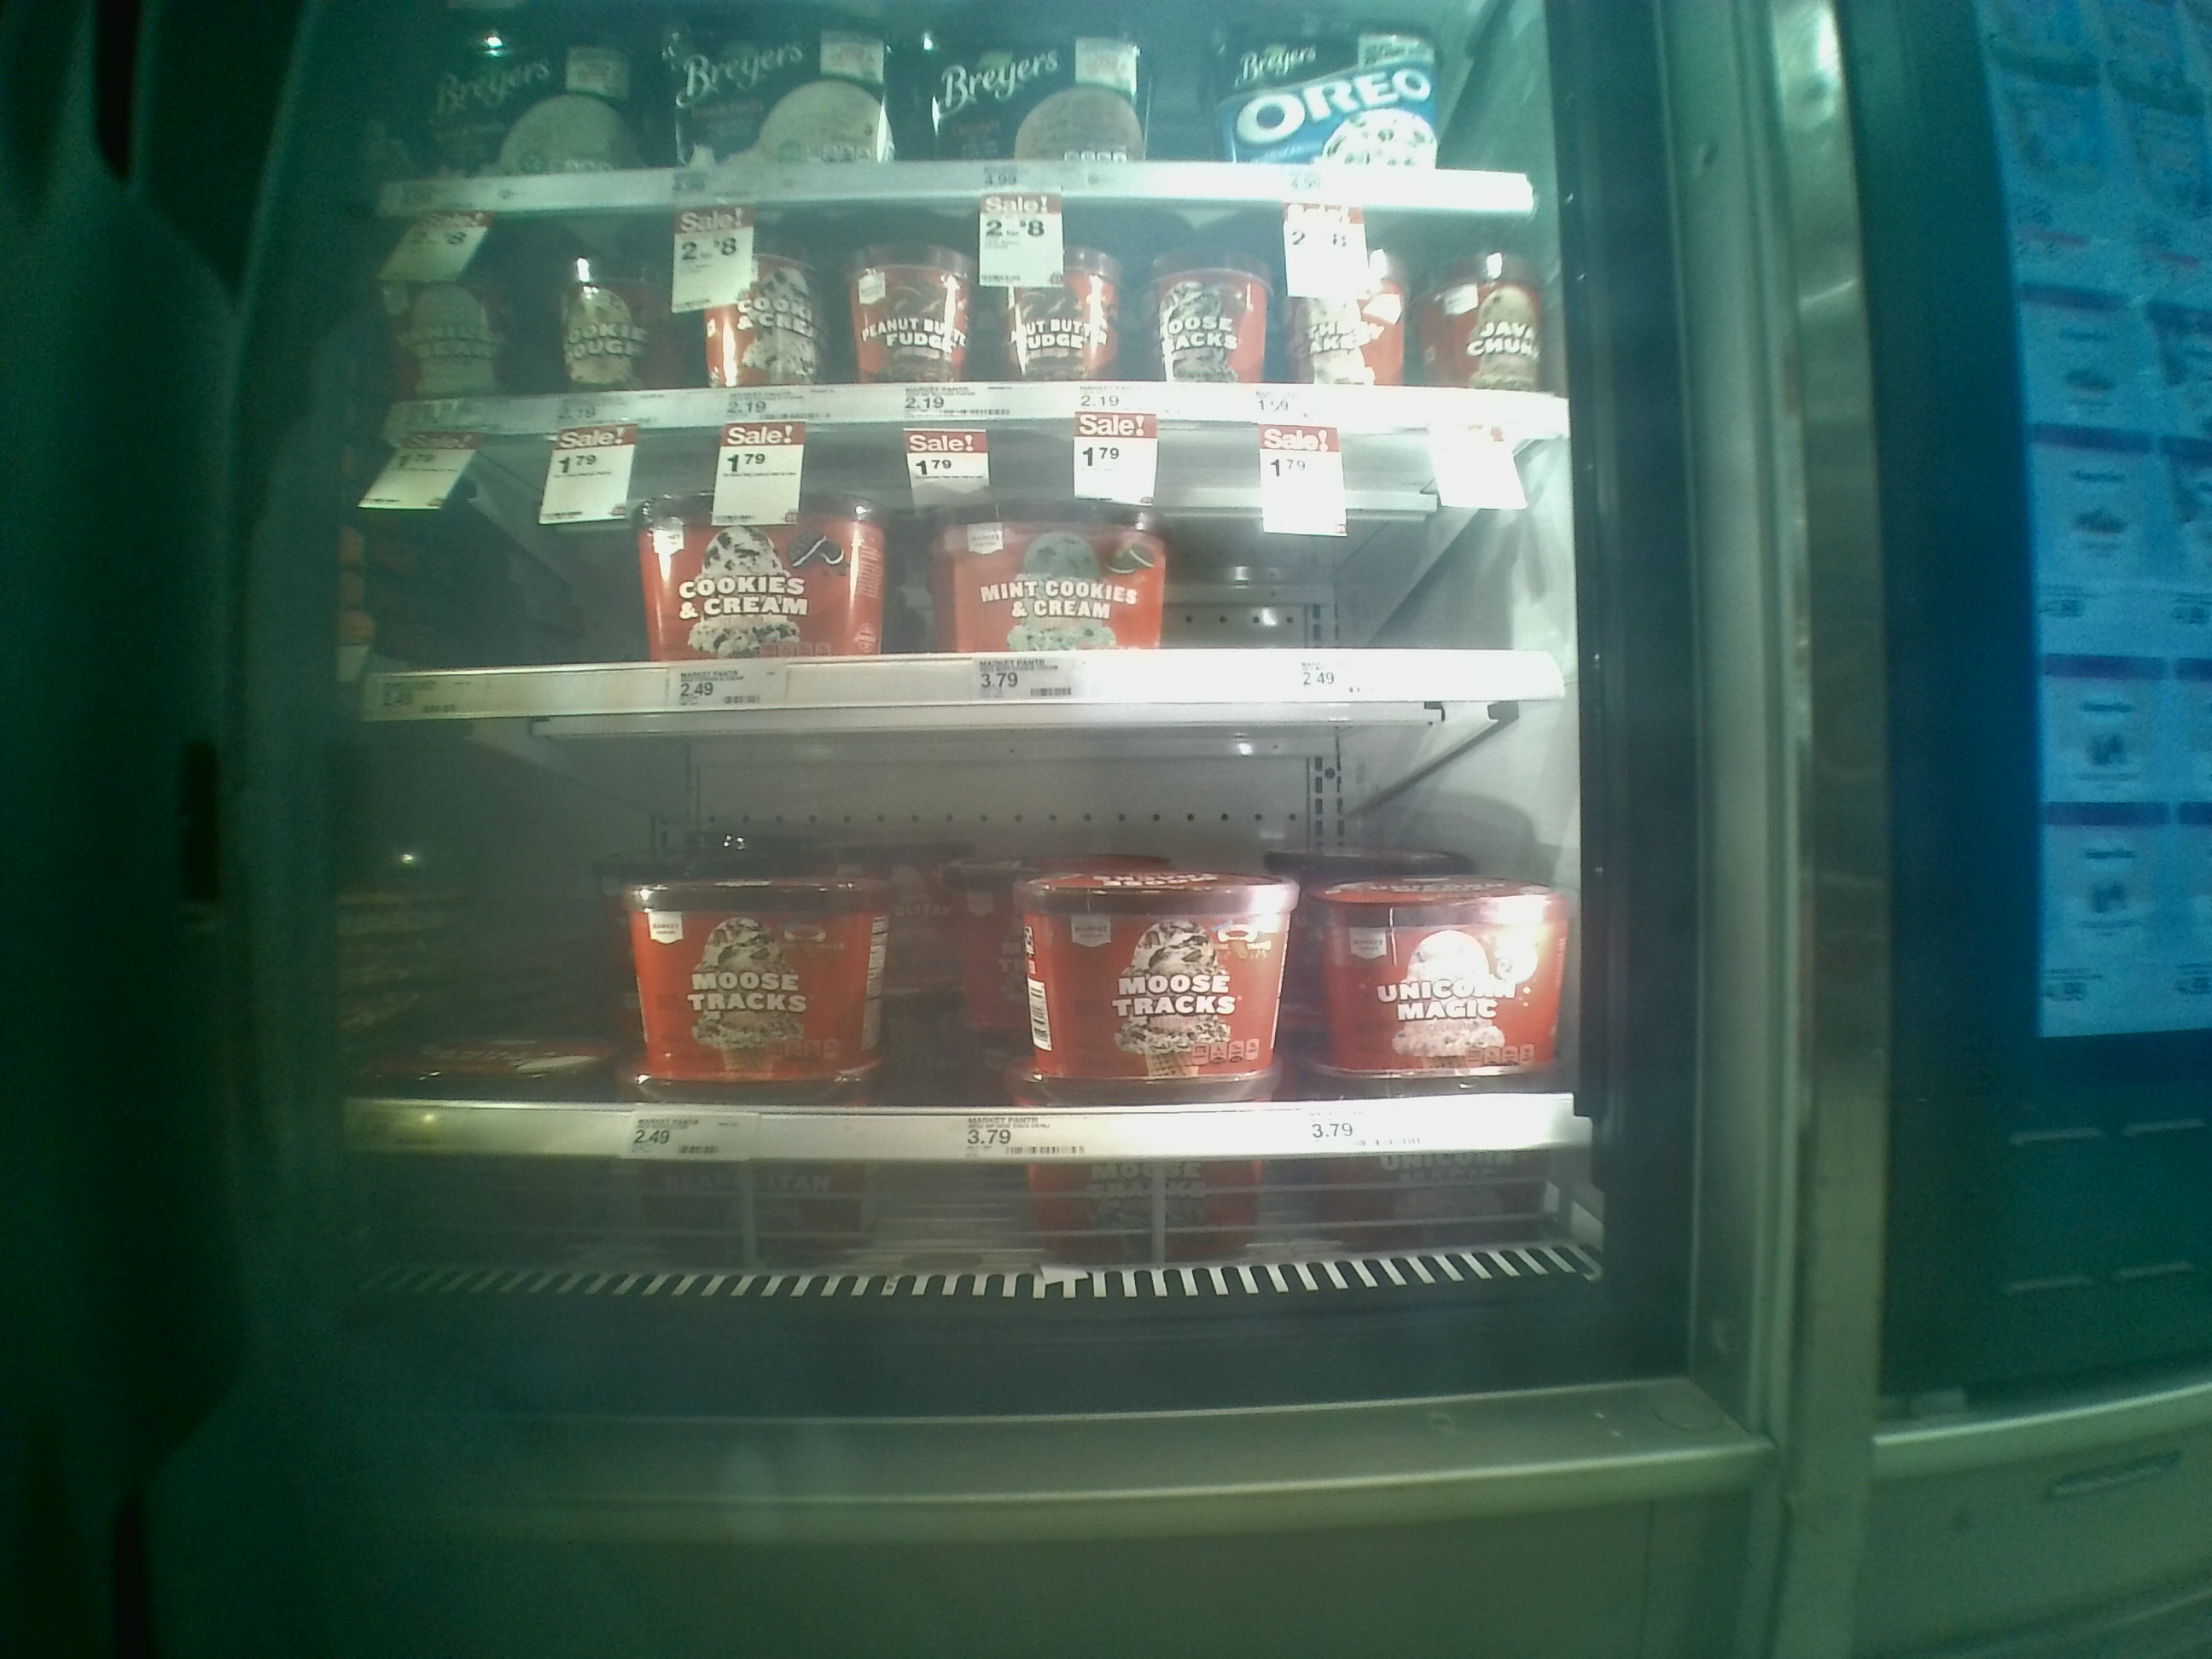ice-cream-shelf: (359, 718, 1590, 1150), (347, 430, 1580, 704), (376, 211, 1569, 422)
